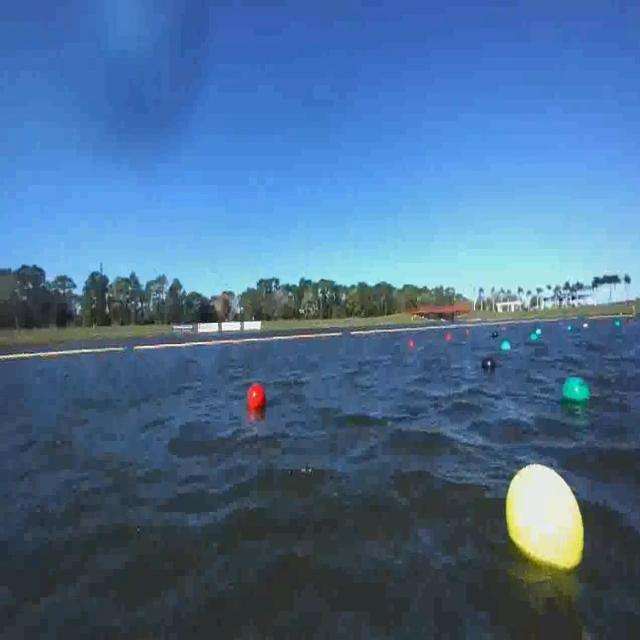black-buoy: (483, 356, 497, 372)
green-buoy: (562, 378, 590, 405), (500, 342, 510, 354), (615, 321, 623, 333)
red-buoy: (250, 382, 268, 408)
yellow-buoy: (504, 464, 583, 576)
